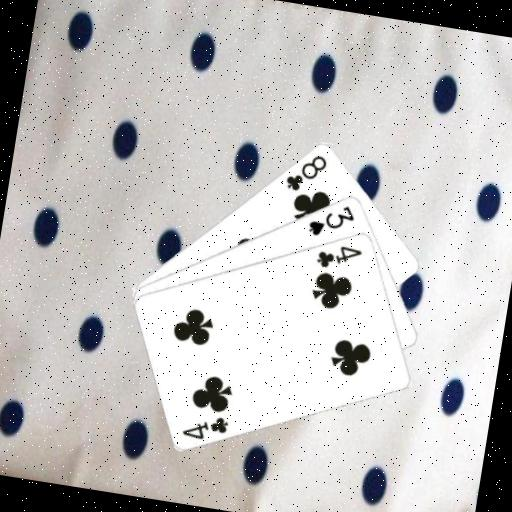3S: (303, 196, 357, 242)
4C: (178, 407, 231, 444), (312, 238, 364, 274)
8C: (280, 146, 330, 196)
